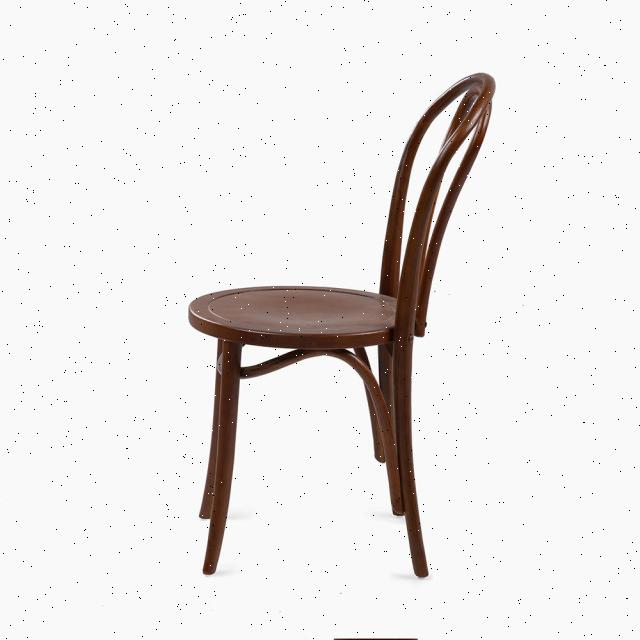bottle: (195, 70, 498, 580)
